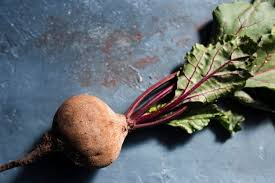beet: (1, 1, 275, 171)
